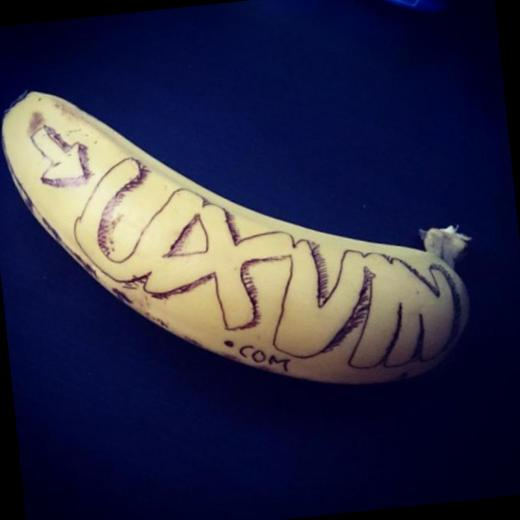Banana: (0, 32, 498, 406)
